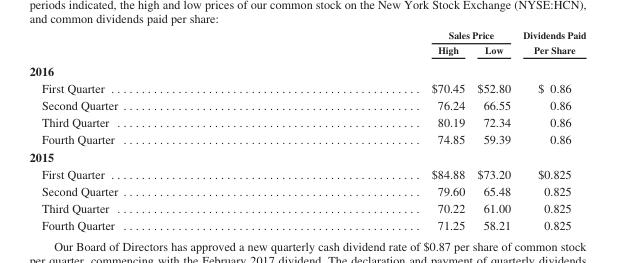table: (28, 29, 585, 231)
table column: (28, 29, 273, 231), (273, 29, 470, 231), (516, 29, 585, 231), (470, 29, 516, 231)
table column header: (28, 29, 585, 59)
table projected row header: (28, 59, 585, 79), (28, 147, 585, 164)
table row: (28, 59, 585, 79), (28, 164, 585, 182), (28, 42, 585, 59), (28, 79, 585, 96), (28, 96, 585, 113), (28, 113, 585, 130), (28, 130, 585, 147), (28, 147, 585, 164), (28, 182, 585, 199), (28, 199, 585, 216), (28, 216, 585, 231), (28, 29, 585, 42)
table spanning cell: (273, 29, 516, 42), (516, 29, 585, 59)
